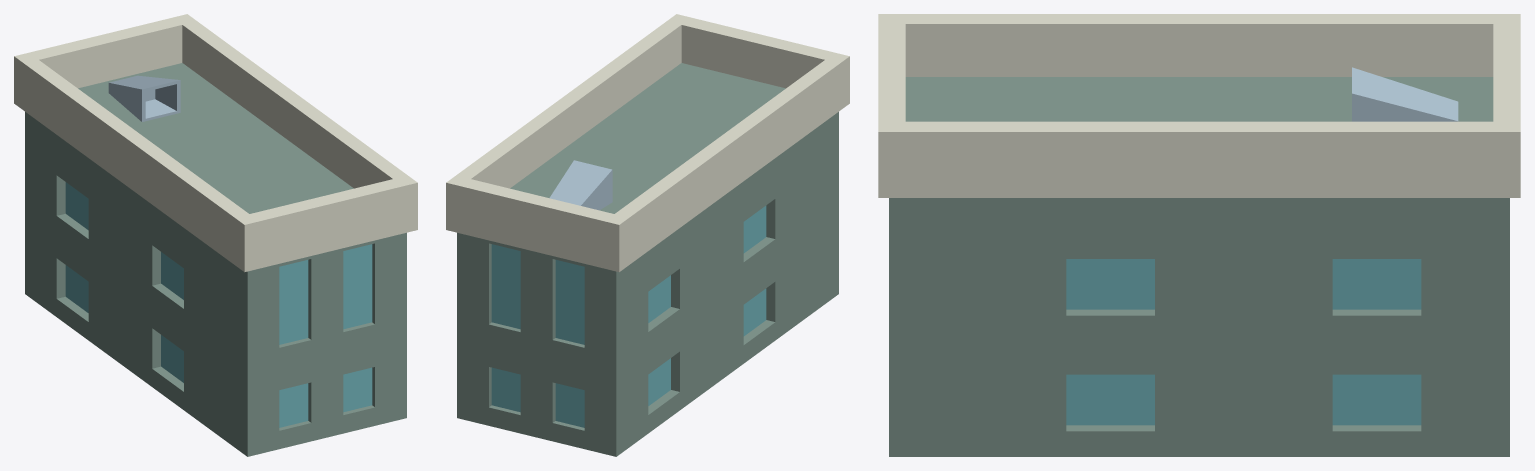
The model's file is house_7.fbx.
3 views of the same model, side by side, from view 1: azimuth 30°, elevation 25°; view 2: azimuth 150°, elevation 25°; view 3: azimuth 270°, elevation 25° (orthographic). The views are drawn at different scales.
Parts seen in each view (by area): view 1: polySurface1873; view 2: polySurface1873; view 3: polySurface1873.
Boxes of the visible parts, <box> form: polySurface1873: <box>14,14,417,456</box>; polySurface1873: <box>446,14,849,456</box>; polySurface1873: <box>878,14,1520,456</box>.
Bounding box in the file's own units: 16.49 × 38 × 21.52.
